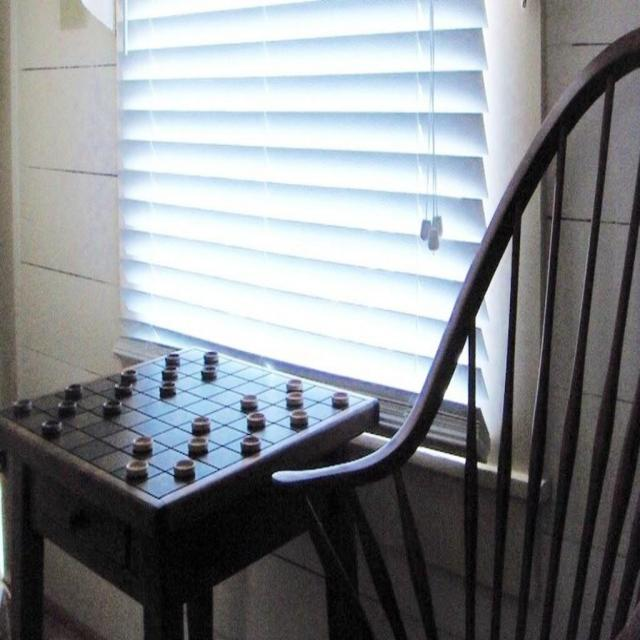table: (0, 346, 380, 638)
